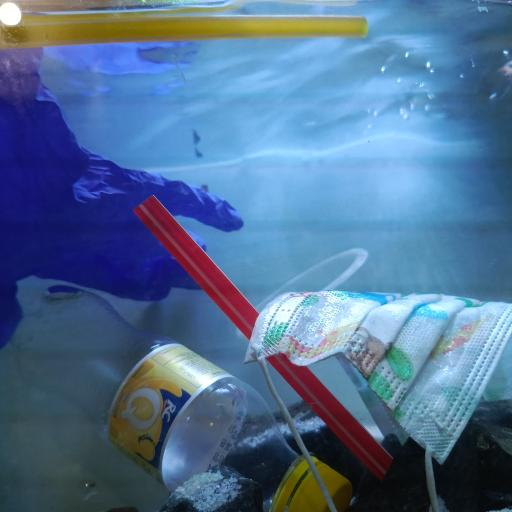bottle_cap: (293, 459, 355, 512)
glove: (0, 54, 244, 349)
mask: (243, 292, 512, 470)
plastic_bottle: (17, 282, 358, 512)
plastic_cup: (248, 244, 386, 294)
plastic_straw: (136, 195, 390, 480), (2, 11, 368, 48)
